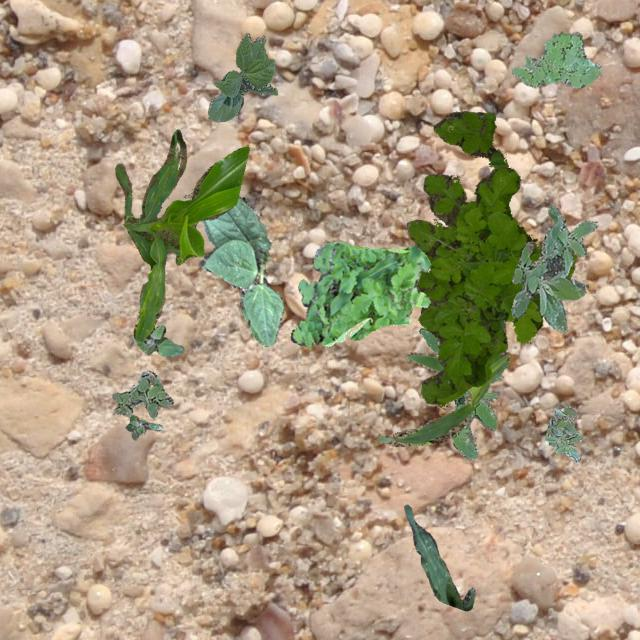crop: (114, 128, 248, 340), (376, 318, 508, 446), (198, 196, 282, 346), (403, 504, 473, 610), (206, 31, 276, 120)
weed: (406, 112, 576, 404), (290, 240, 430, 346), (510, 204, 596, 332), (418, 328, 502, 458), (510, 31, 600, 88), (112, 370, 172, 418), (544, 404, 582, 462), (132, 324, 182, 356), (125, 414, 162, 438)
